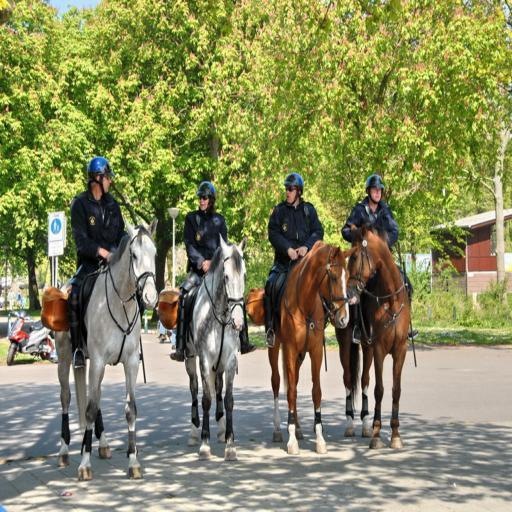horse: (55, 210, 158, 484), (263, 236, 358, 458), (180, 228, 248, 466), (345, 220, 413, 452)
